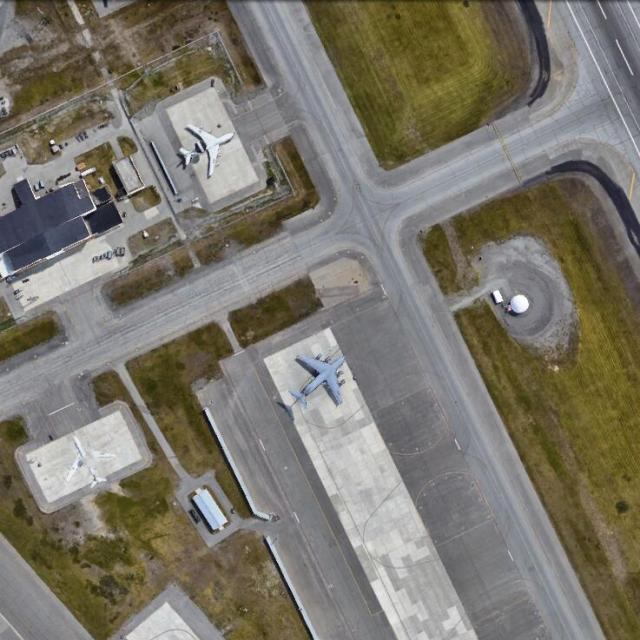fighter jet: (272, 348, 348, 412), (170, 117, 237, 180), (58, 438, 114, 490)
